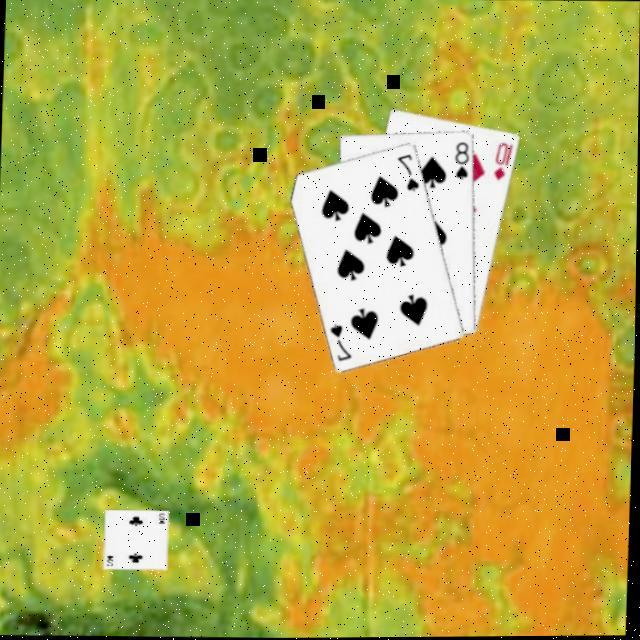10D: (489, 141, 515, 184)
7S: (392, 152, 423, 195), (325, 322, 356, 365)
8S: (449, 141, 472, 184)
